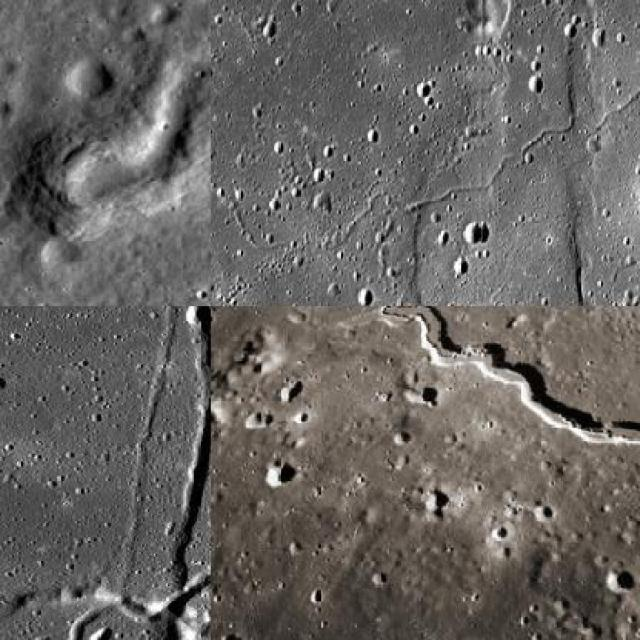rille: (226, 306, 639, 457), (377, 83, 575, 286), (37, 422, 209, 638), (57, 0, 209, 211), (111, 306, 209, 594), (156, 306, 210, 639), (228, 189, 400, 254), (583, 26, 639, 142)
